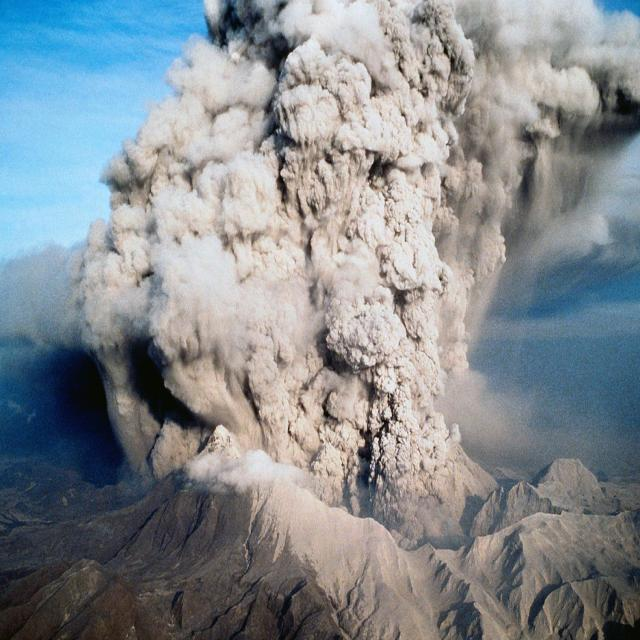Smoke: (57, 0, 640, 483)
